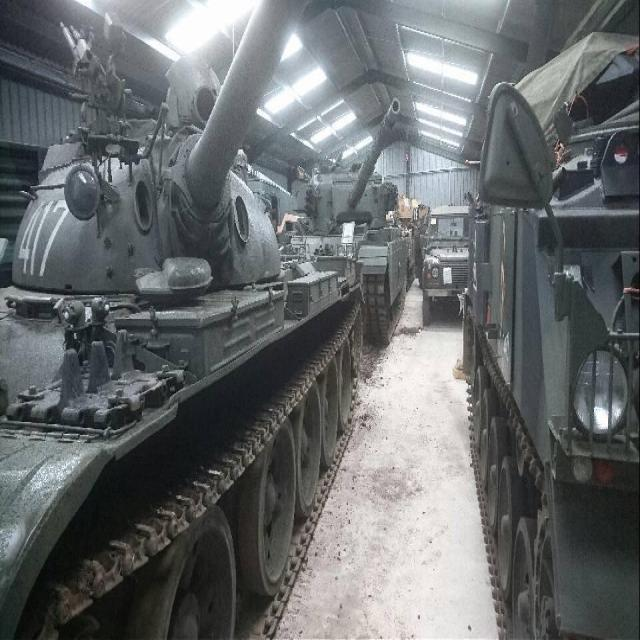Tanks: (8, 15, 381, 627), (455, 48, 570, 630), (291, 91, 428, 388)
